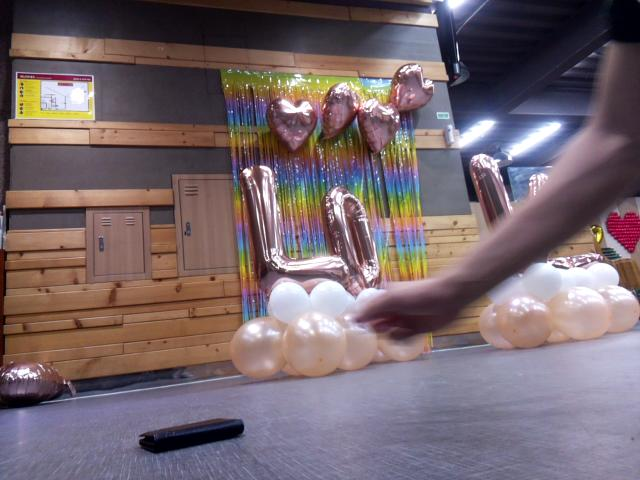wallet: (127, 411, 259, 459)
